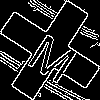M: (25, 25, 85, 86)
